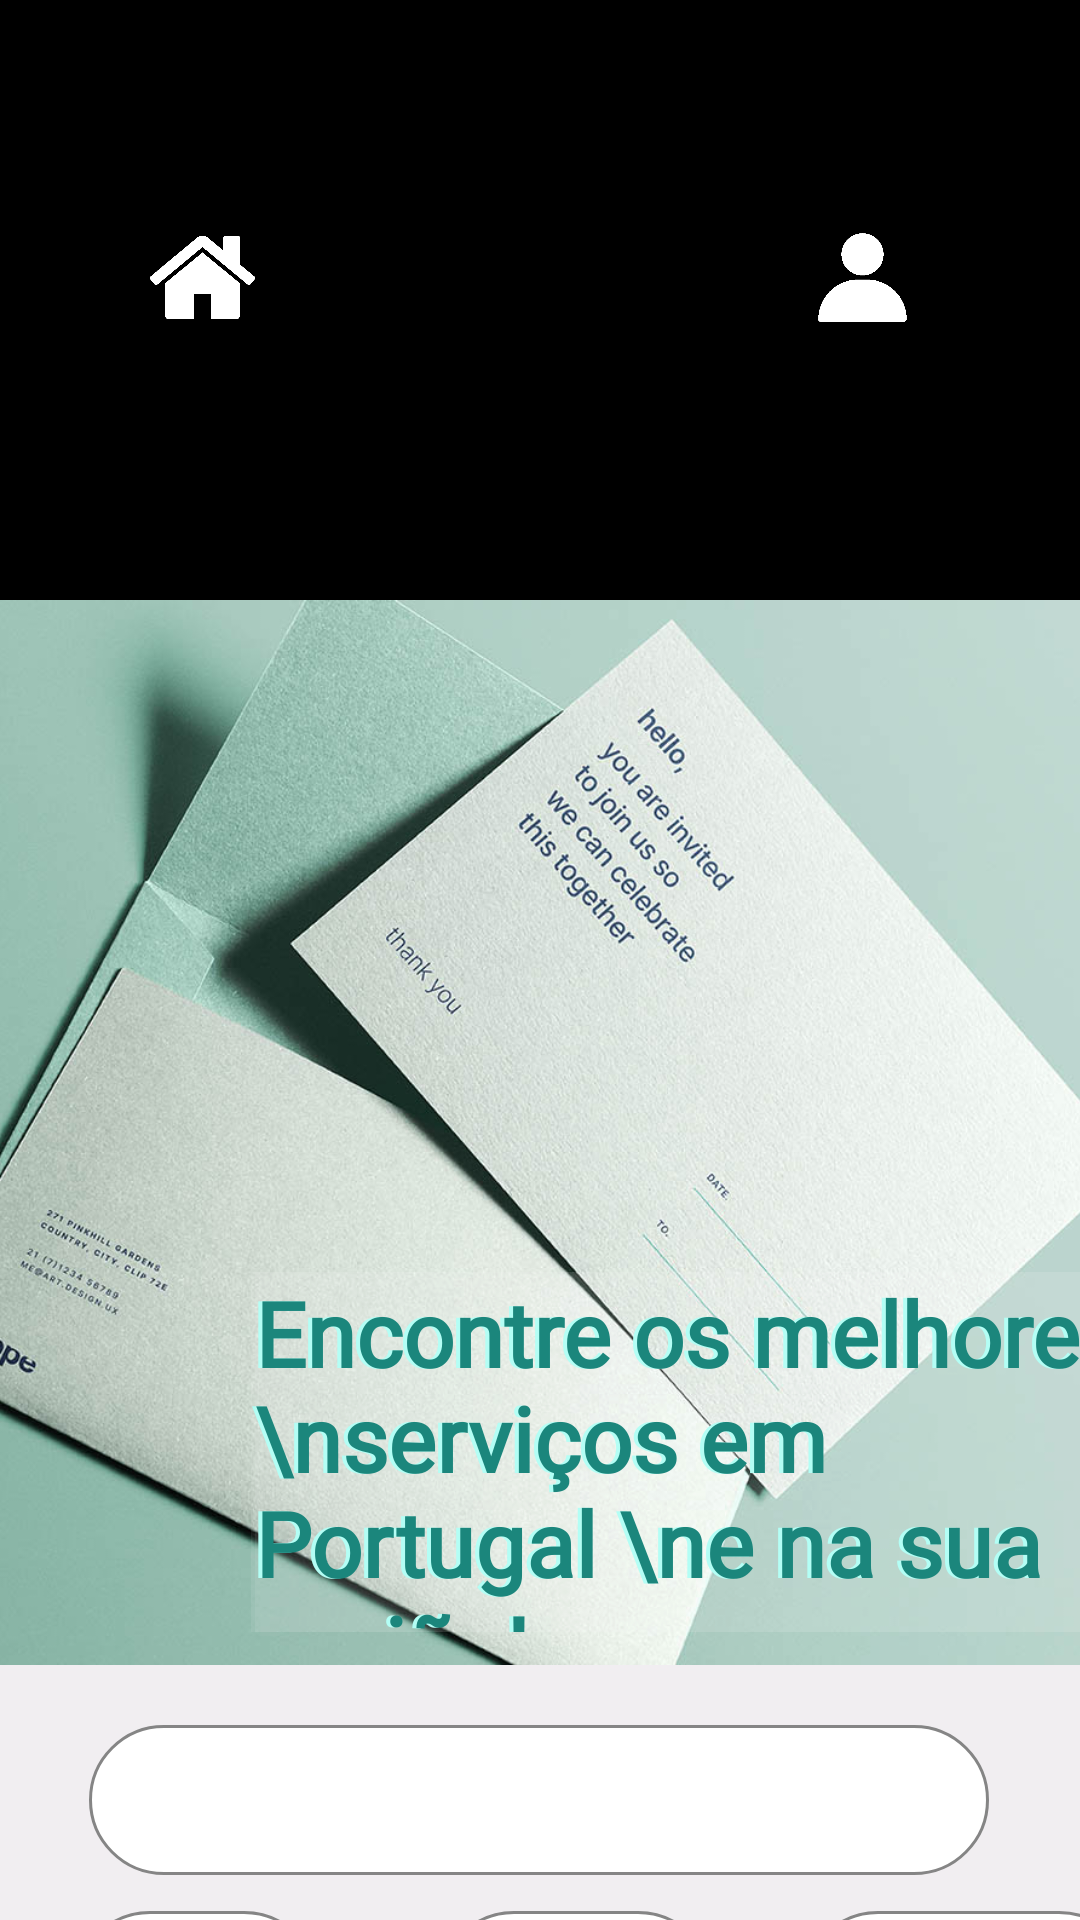

Where to tap for icons on this 1080px×1920px app screen, as (x,y):
home: (202,277)
perfil: (862,277)
